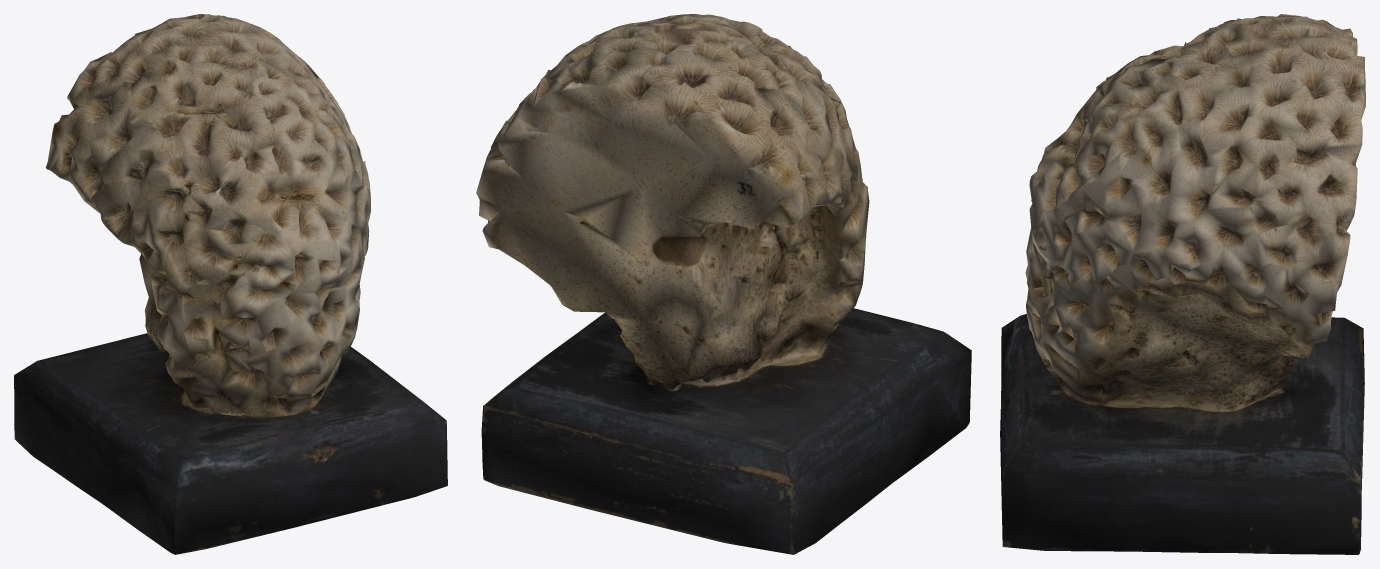
The model's file is coral-favia.glb.
The picture shows the model from 3 angles, left to right: view 1: azimuth 30°, elevation 25°; view 2: azimuth 150°, elevation 25°; view 3: azimuth 270°, elevation 25°; orthographic projection. The views are drawn at different scales.
Bounding box in the file's own units: 1.52 × 1.98 × 1.45.
1 material, 1 textured.
